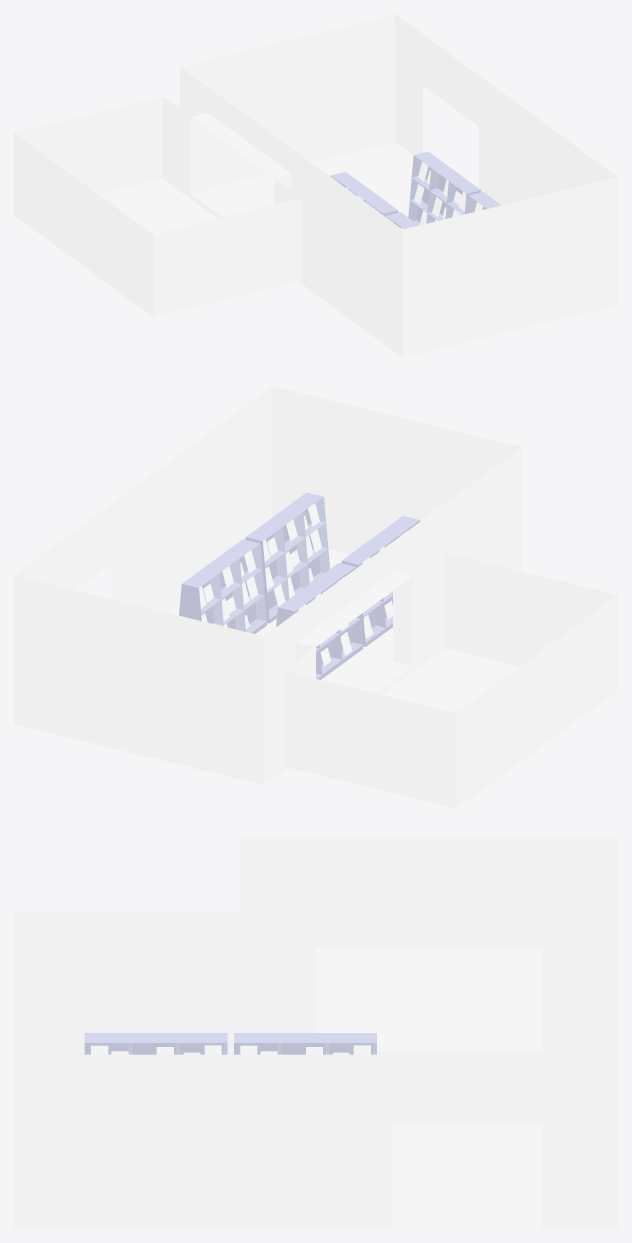
The model's file is convenience_store.glb.
3 views of the same model, one above another, from view 1: azimuth 30°, elevation 25°; view 2: azimuth 150°, elevation 25°; view 3: azimuth 270°, elevation 25° (orthographic). The views are drawn at different scales.
Parts seen in each view (by area): view 1: konbini-col, shelf-col (×2), water_convenience_store; view 2: konbini-col, shelf-col (×4), water_convenience_store; view 3: konbini-col, water_convenience_store, shelf-col (×2).
Part boxes in pixels (bbox=[...]): konbini-col: bbox=[14, 14, 617, 357]; shelf-col (×2): bbox=[330, 151, 481, 225]; water_convenience_store: bbox=[99, 179, 217, 234]; konbini-col: bbox=[14, 386, 617, 808]; shelf-col (×4): bbox=[179, 492, 420, 679]; water_convenience_store: bbox=[382, 648, 519, 712]; konbini-col: bbox=[14, 837, 617, 1228]; water_convenience_store: bbox=[316, 949, 542, 1040]; shelf-col (×2): bbox=[84, 1033, 376, 1054].
Bounding box in the file's own units: 28.89 × 9.29 × 29.22.
